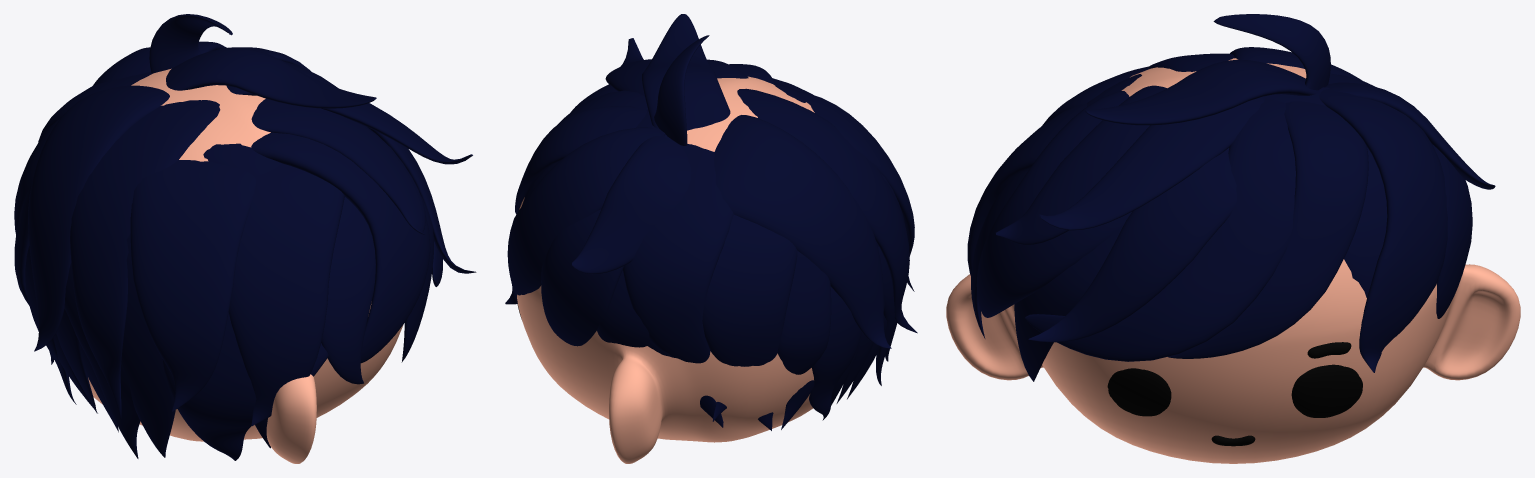
Rendered from exampleMesh.glb.
3 renders of one model, left to right at view 1: azimuth 30°, elevation 25°; view 2: azimuth 150°, elevation 25°; view 3: azimuth 270°, elevation 25°, orthographic. The views are drawn at different scales.
Visible parts, largest first — view 1: Hairs, Face; view 2: Hairs, Face; view 3: Hairs, Face, Eye.R, Eye.L.
Boxes of the visible parts, x1,y1,x2,y2 form: Hairs: [14, 14, 476, 460]; Face: [88, 68, 403, 463]; Hairs: [505, 14, 917, 430]; Face: [517, 76, 814, 463]; Hairs: [967, 14, 1495, 381]; Face: [946, 58, 1520, 463]; Eye.R: [1291, 364, 1362, 417]; Eye.L: [1107, 368, 1171, 416].
Size of the model in its own units: 1.03 by 1.04 by 1.27.
